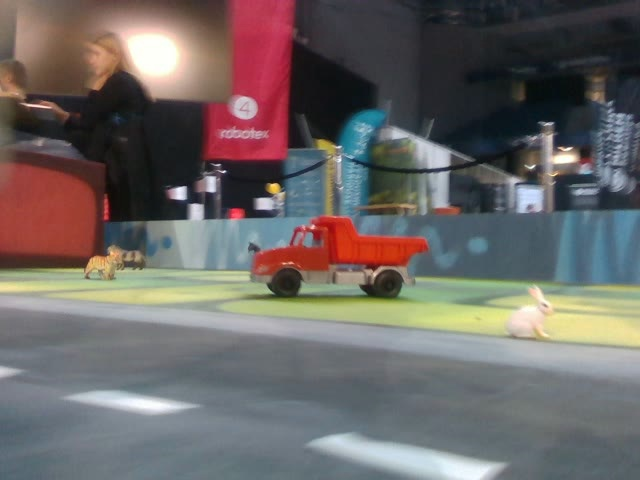toy: (504, 285, 555, 343), (86, 251, 122, 279)
